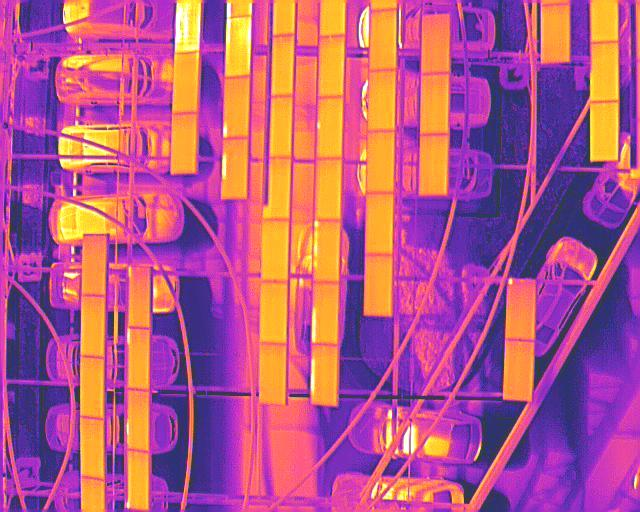Cell: (506, 279, 536, 339), (317, 96, 344, 162)
No-Anomaly: (366, 130, 397, 193), (503, 340, 535, 401), (364, 255, 395, 316), (540, 3, 571, 64), (590, 40, 619, 104), (419, 135, 449, 196), (421, 72, 450, 135), (366, 193, 395, 256), (260, 281, 289, 344), (317, 35, 346, 98), (262, 218, 290, 283), (259, 343, 288, 404), (370, 8, 398, 71), (173, 52, 201, 115), (590, 100, 619, 160), (80, 294, 107, 358), (368, 70, 396, 131), (316, 158, 343, 221), (267, 155, 292, 221), (82, 235, 109, 296), (423, 14, 450, 75), (80, 356, 106, 419), (270, 94, 295, 159), (271, 34, 296, 98), (172, 112, 197, 174), (128, 267, 152, 330), (81, 417, 105, 480), (127, 390, 150, 452), (127, 451, 150, 511)
Unclassified: (313, 220, 342, 284), (223, 74, 250, 142), (311, 343, 340, 406), (221, 137, 249, 199), (225, 16, 252, 80), (312, 282, 340, 343), (174, 0, 202, 53), (127, 327, 150, 390)
